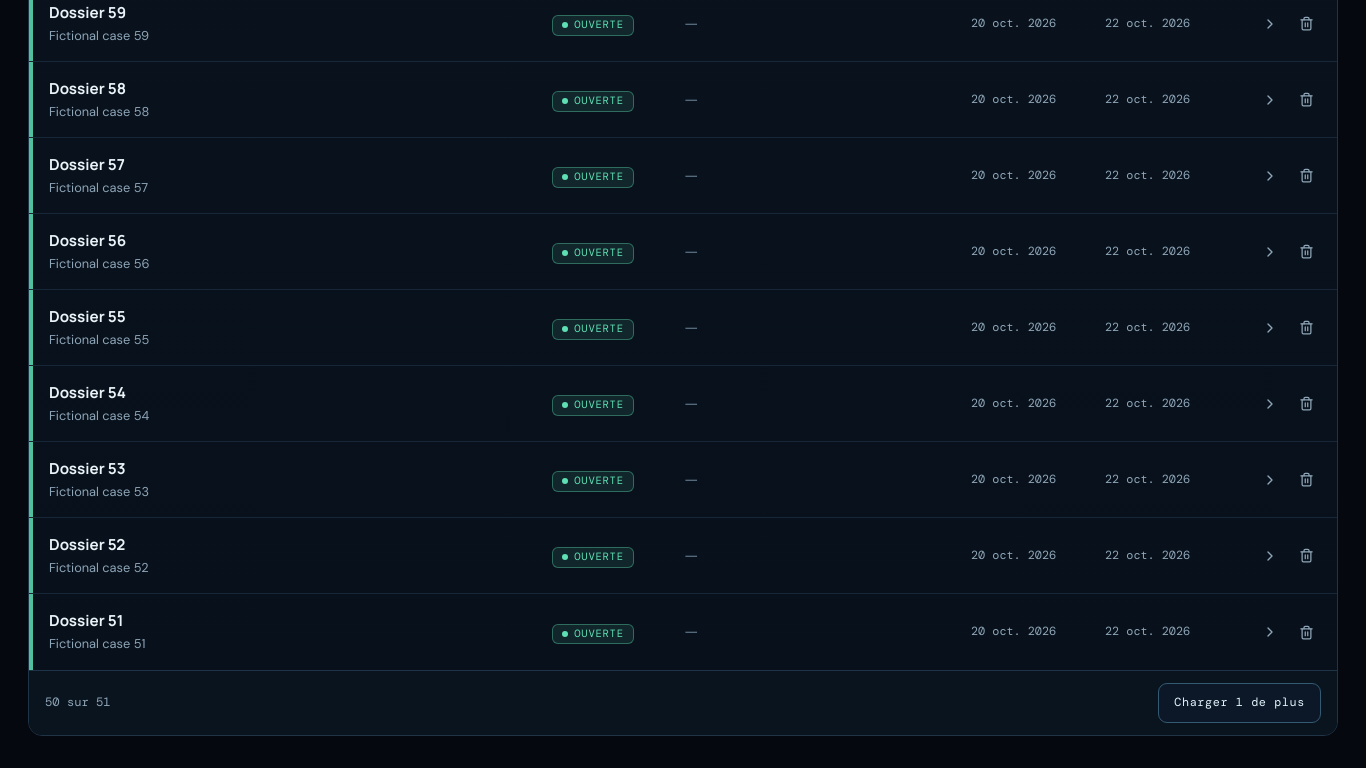
Test case: Investigations 2026 — liste › charge les dossiers suivants au-delà de 50
(page scrolled)
Step 1. Click the button "Charger 1 de plus" → (1240, 703), box left=1158, top=683, right=1321, bottom=723
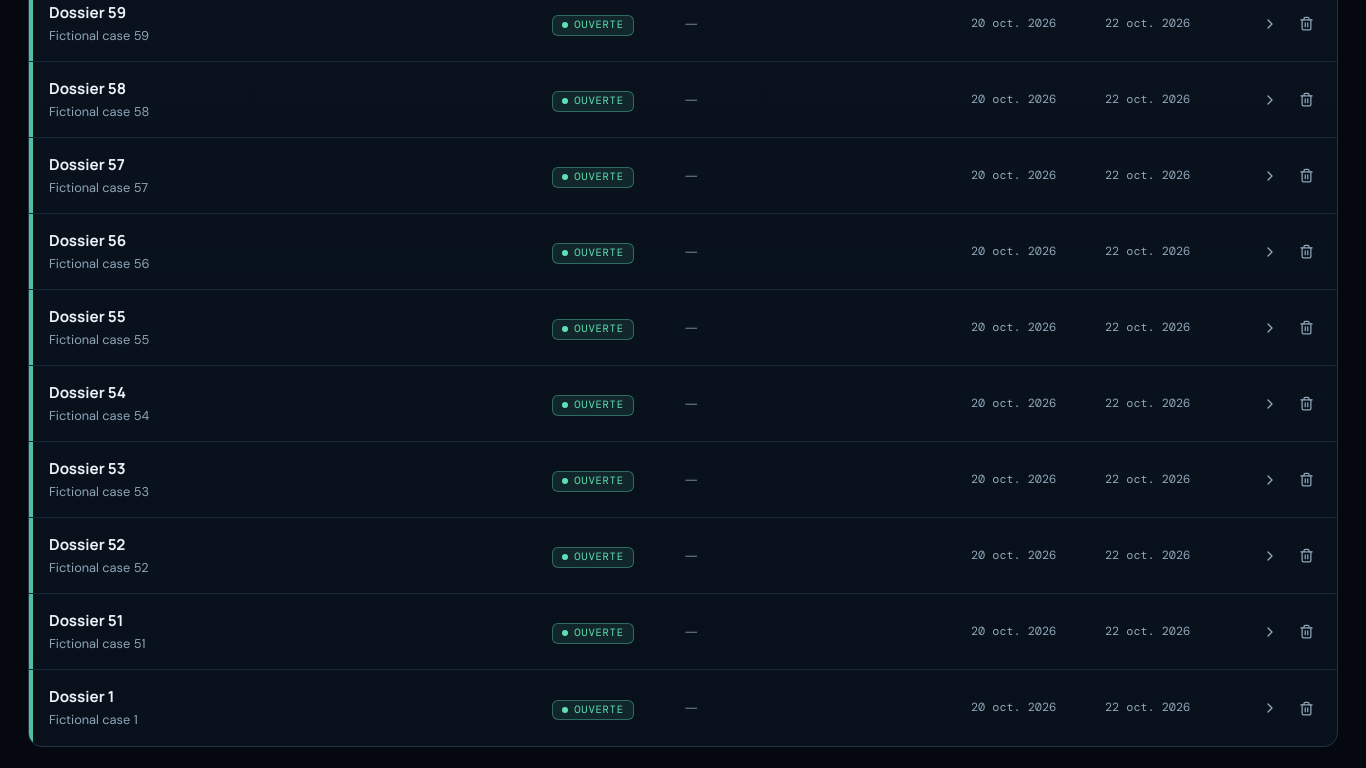
Expected: the link "Dossier 1" is shown, left=49, top=686, right=114, bottom=707
Expected: the button "de plus" is gone
